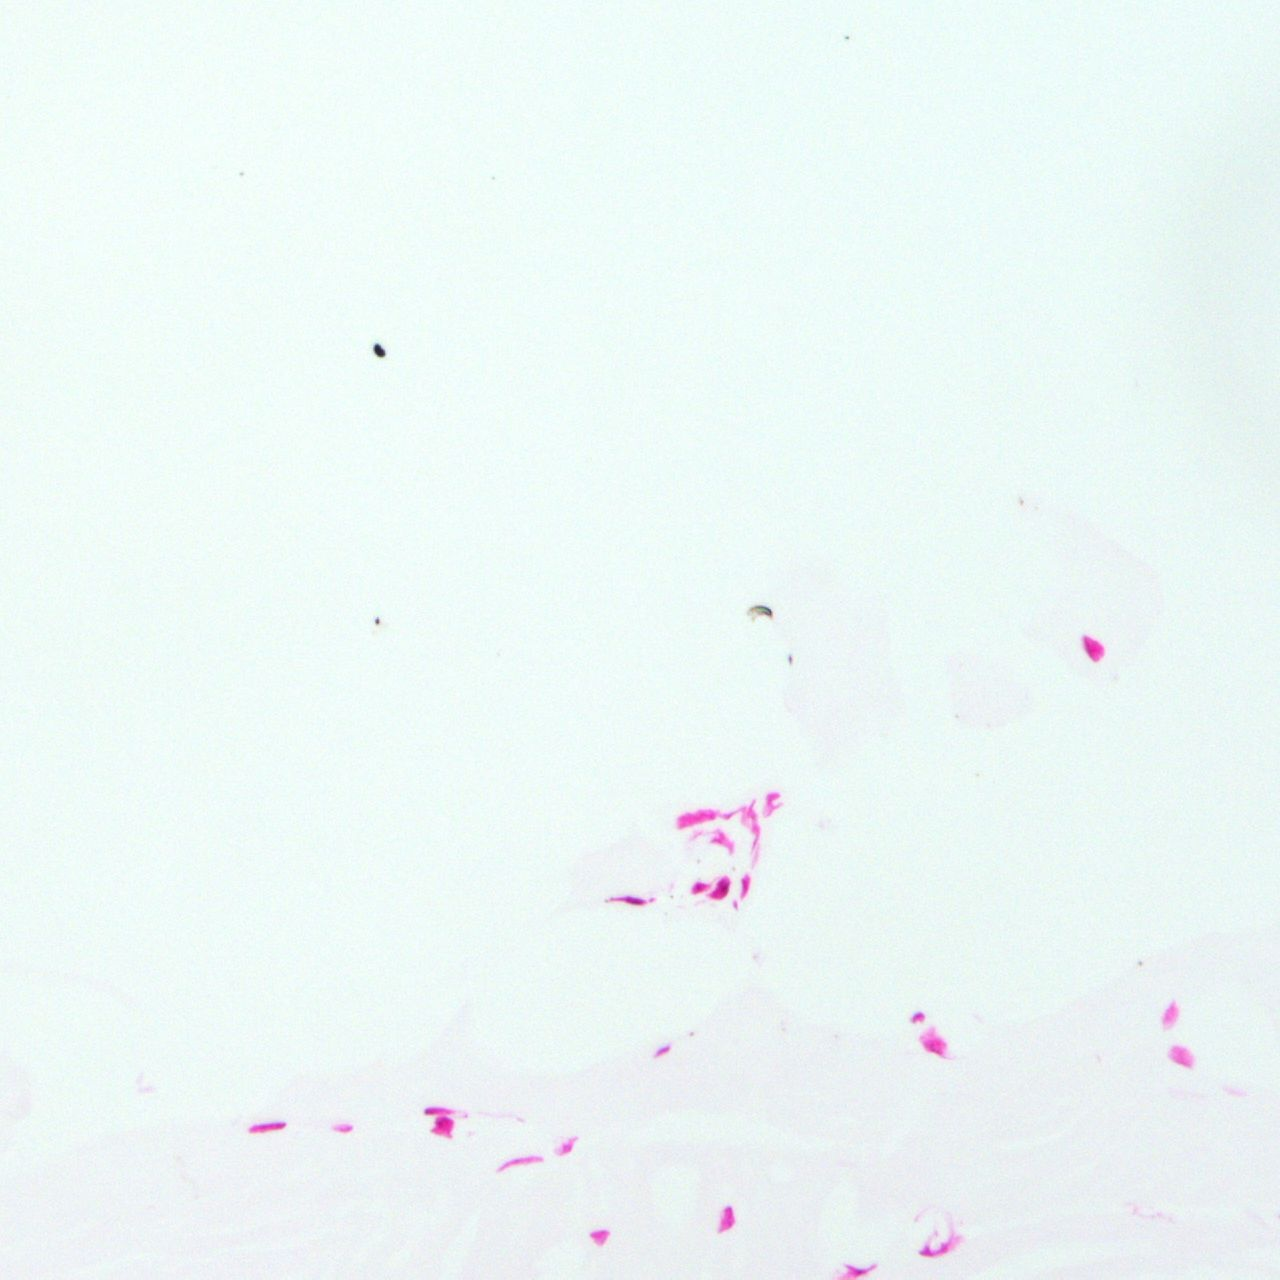dust: (745, 605, 772, 618), (373, 343, 386, 358), (374, 617, 379, 624), (1138, 960, 1141, 966), (844, 36, 849, 39)
nucleus-FG: (707, 873, 735, 904), (431, 1114, 456, 1138), (248, 1121, 286, 1133), (425, 1107, 452, 1114), (625, 896, 645, 905)
